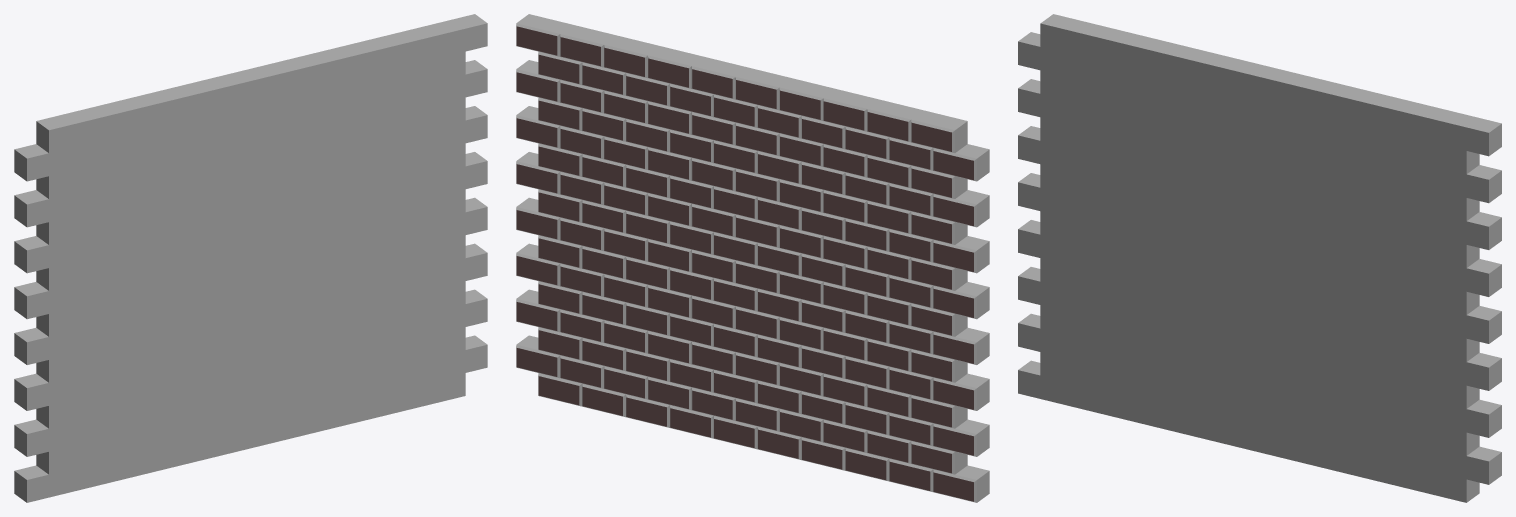
File: siena.fbx
The picture shows the model from 3 angles, left to right: view 1: azimuth 30°, elevation 25°; view 2: azimuth 150°, elevation 25°; view 3: azimuth 330°, elevation 25°; orthographic projection. The views are drawn at different scales.
Parts seen in each view (by area): view 1: Cube; view 2: Cube; view 3: Cube.
Part boxes in pixels (left/top/right/bottom): Cube: left=14, top=14, right=487, bottom=502; Cube: left=516, top=14, right=989, bottom=502; Cube: left=1018, top=14, right=1501, bottom=502.
Size of the model in its own units: 18771 by 14301 by 983.
